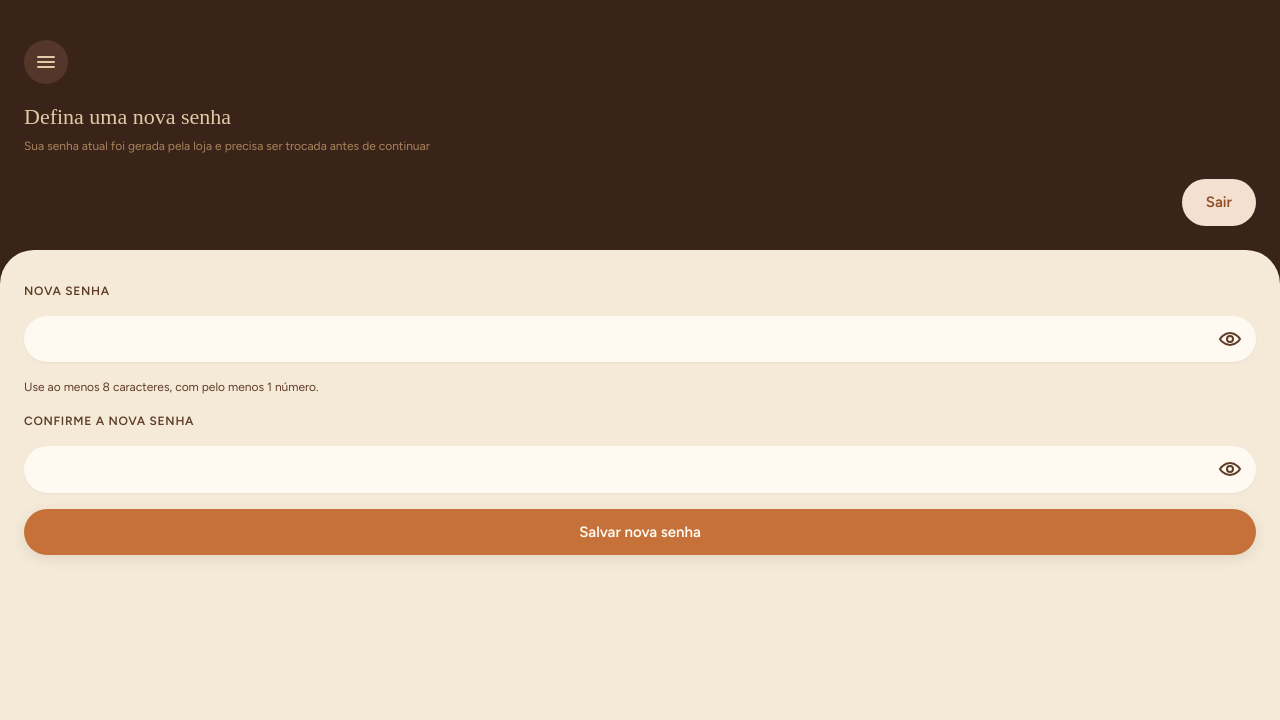
ChangePasswordScreen › UT-023: erro de senhas diferentes não reseta a visibilidade de nenhum dos campos
Click the 1st button named "Mostrar senha" at (1230, 339), box [1208,317,1252,361]
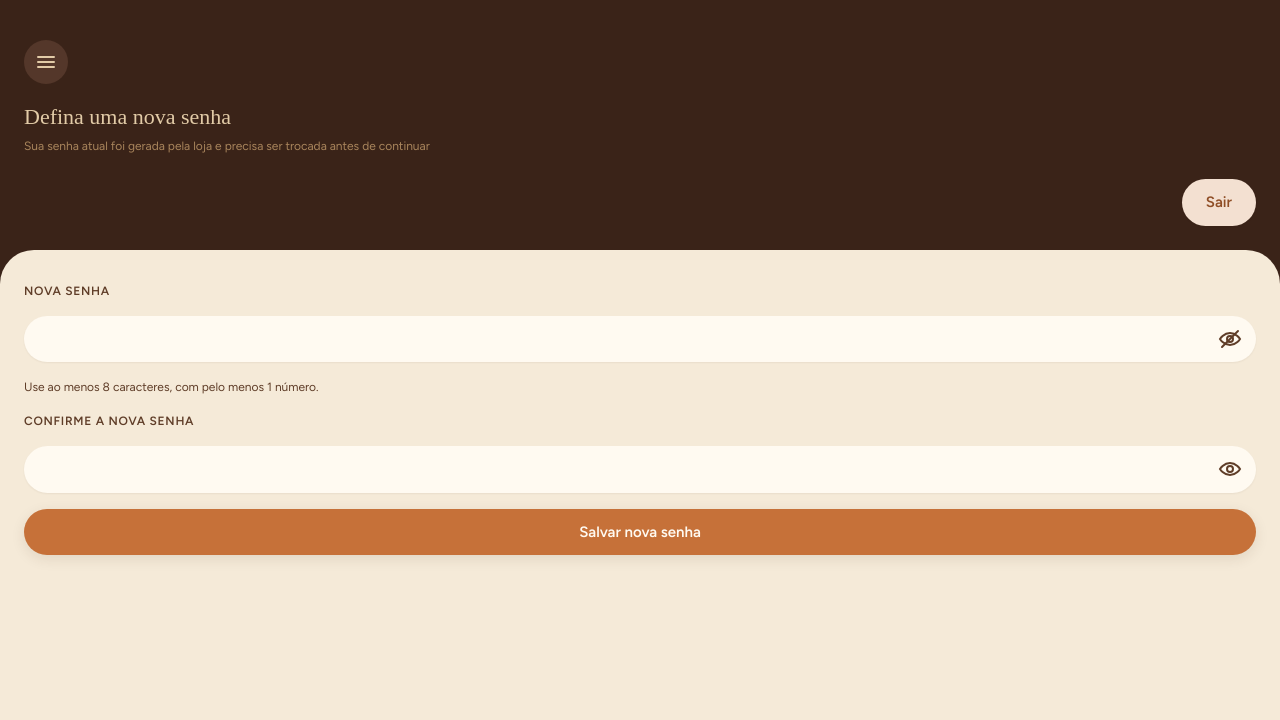
Type "chocolate1" into the field labelled "Nova senha" at (640, 339), box [24,316,1256,362]
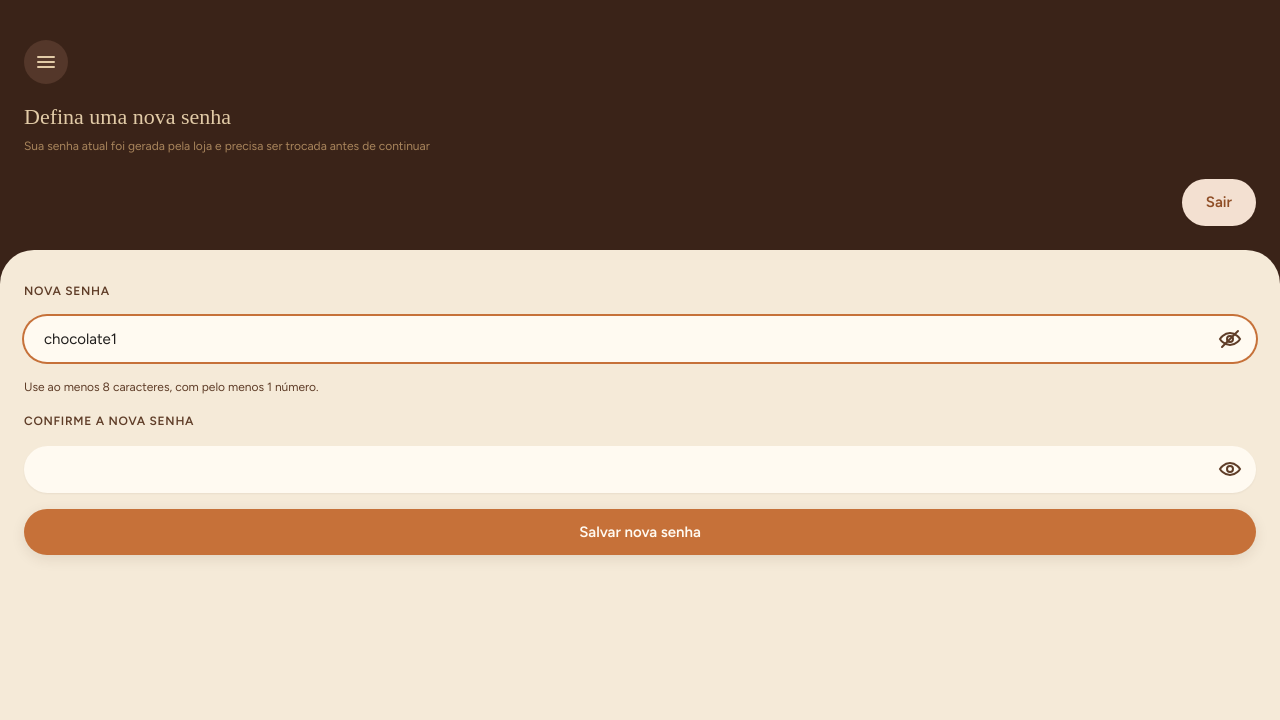
Type "chocolate2" into the password field labelled "Confirme a nova senha" at (640, 469), box [24,446,1256,492]
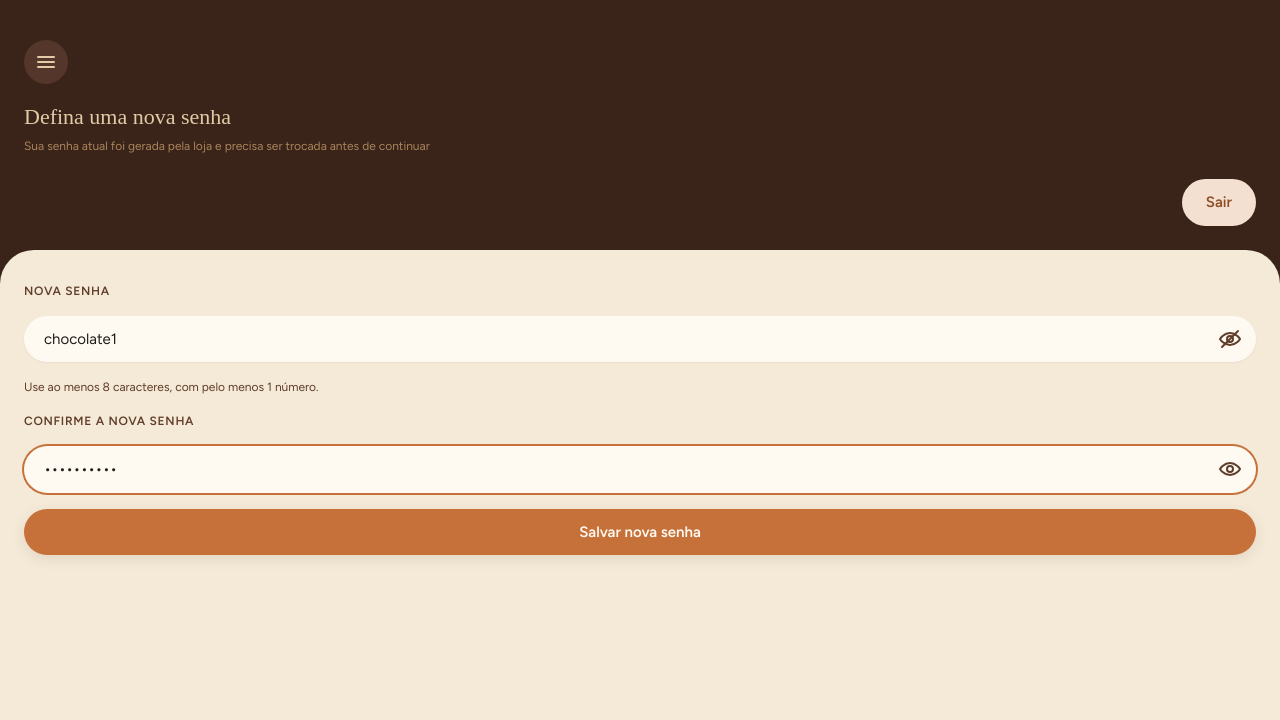
Click the button "Salvar nova senha" at (640, 532), box [24,508,1256,555]
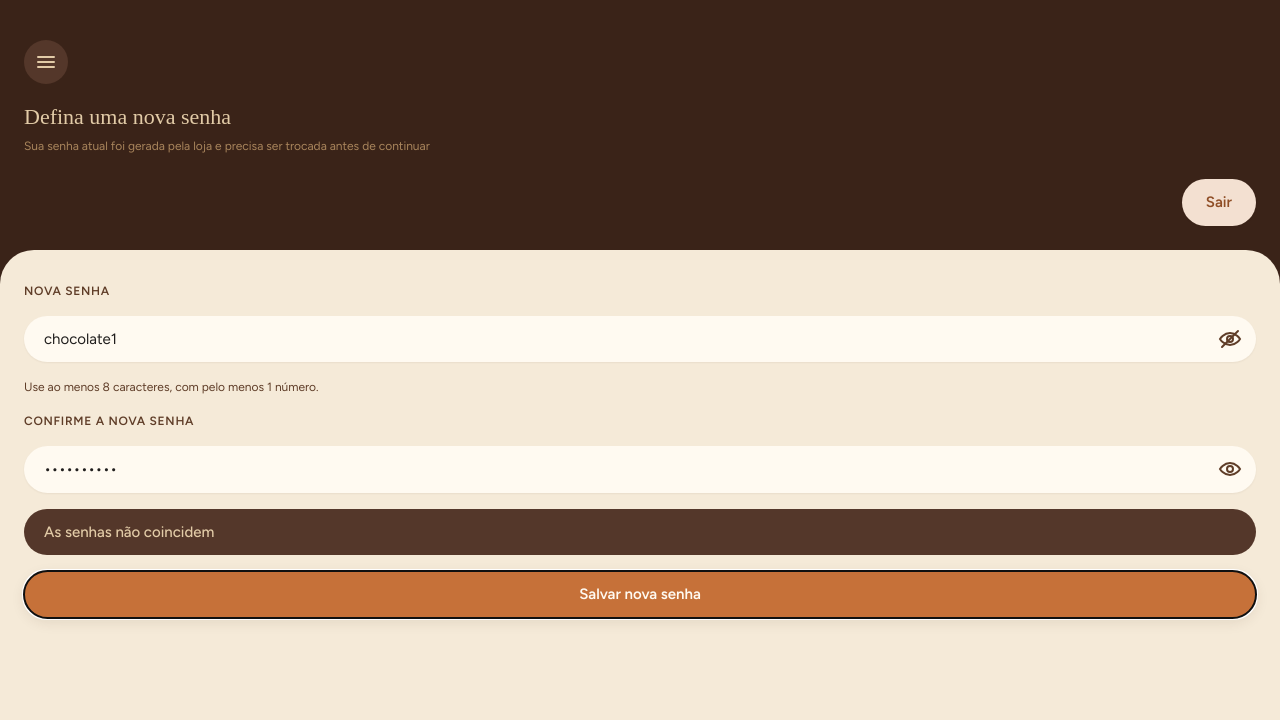
Expected: the field labelled "Nova senha" shows its text, [24,316,1256,362]
Expected: the message reads "As senhas não coincidem", [44,522,214,540]
